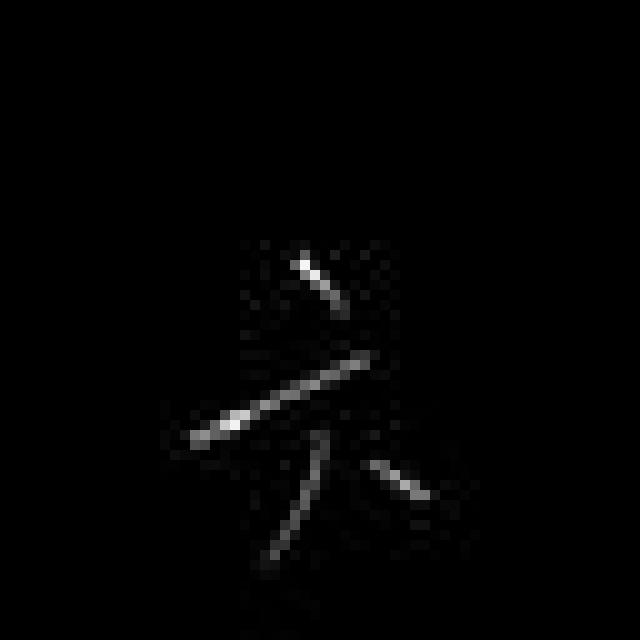6 -six-: (174, 241, 445, 572)
